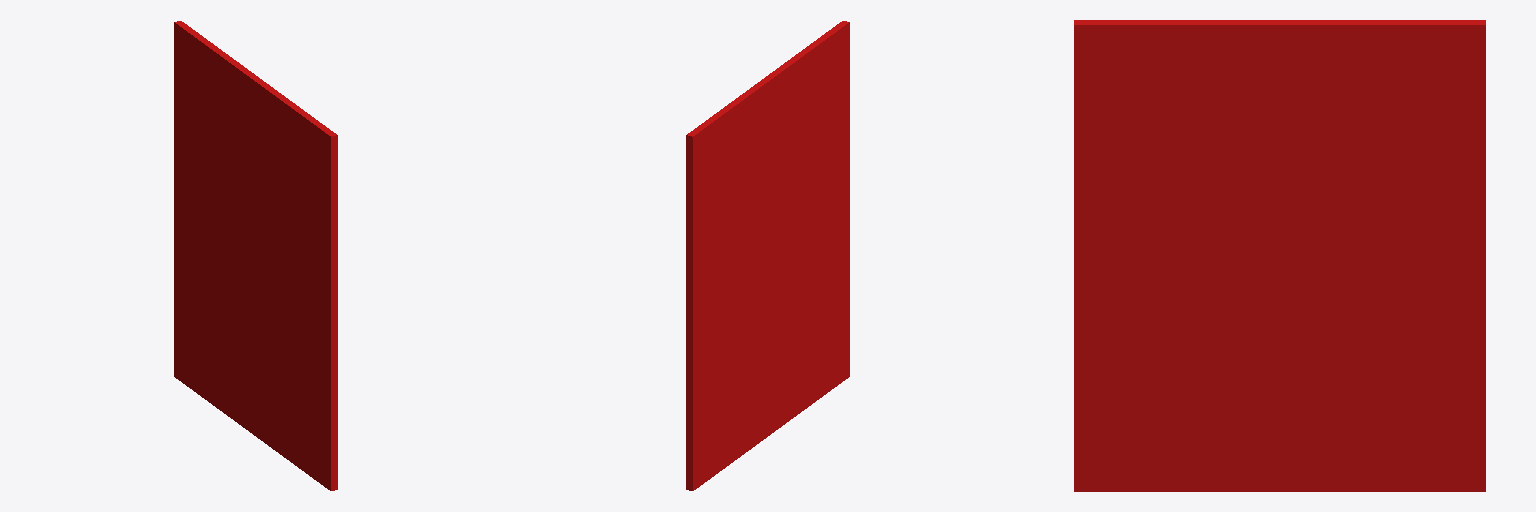
The robot description file, URDF, robot "board_red":
<?xml version="1.0"?>
<robot name="board_red">
  <material name="red">
    <color rgba="0.850 0.120 0.120 1.000"/>
  </material>

  <link name="base_link">
    <inertial>
      <mass value="1.0"/>
      <origin xyz="0 0 0.5" rpy="0 0 0"/>
      <inertia ixx="2.17" ixy="0" ixz="0" iyy="0.083" iyz="0" izz="2.08"/>
    </inertial>

    <visual>
      <origin xyz="0 0 0.5" rpy="0 0 0"/>
      <geometry>
        <box size="0.02 0.8 1.0"/>
      </geometry>
      <material name="red"/>
    </visual>

    <collision>
      <origin xyz="0 0 0.5" rpy="0 0 0"/>
      <geometry>
        <box size="0.02 0.8 1.0"/>
      </geometry>
    </collision>
  </link>
</robot>

--- Render facts (derived) ---
The picture shows the robot from 3 angles, left to right: view 1: azimuth 30°, elevation 25°; view 2: azimuth 150°, elevation 25°; view 3: azimuth 270°, elevation 25°; orthographic projection.
Robot: board_red — 1 links, 0 joints (none); root link base_link; default pose: all joints at 0.
Visible links, largest first — view 1: base_link; view 2: base_link; view 3: base_link.
Boxes of the visible links, x1,y1,x2,y2 form: base_link: (174,21,337,490); base_link: (686,21,849,490); base_link: (1074,20,1485,491).
Size in the robot's own frame: 0.02 by 0.8 by 1 metres.
Geometry: primitives only (box / cylinder / sphere), no mesh files.
